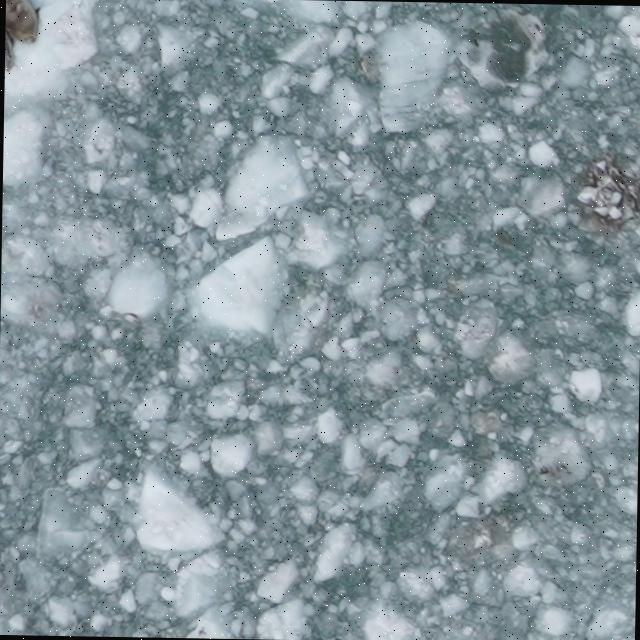seal: (5, 0, 47, 49), (4, 10, 22, 78)
